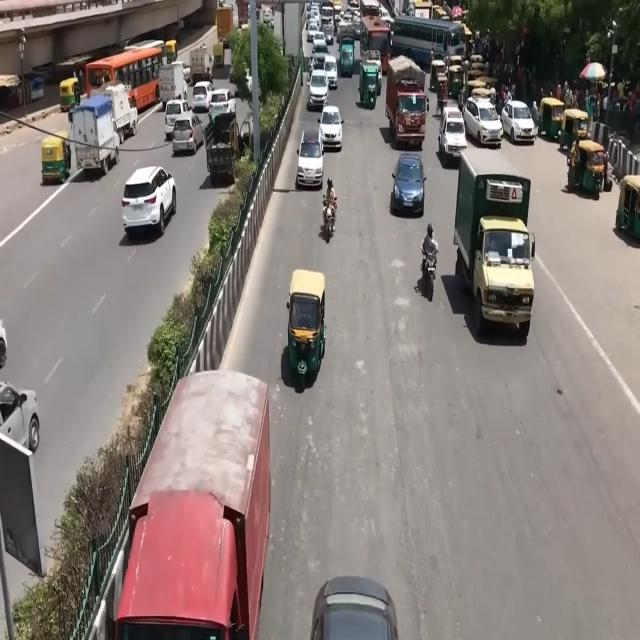auto: (287, 269, 326, 383), (567, 137, 611, 196), (616, 174, 640, 242), (41, 136, 71, 185), (560, 107, 590, 153), (358, 53, 382, 107), (537, 96, 565, 140), (59, 77, 80, 113), (429, 57, 447, 95), (446, 64, 464, 100), (339, 38, 355, 76), (212, 41, 225, 67), (165, 39, 178, 64)
bike-auto: (419, 242, 438, 300), (322, 190, 337, 239), (436, 88, 445, 117), (458, 90, 464, 114), (206, 66, 213, 86)
